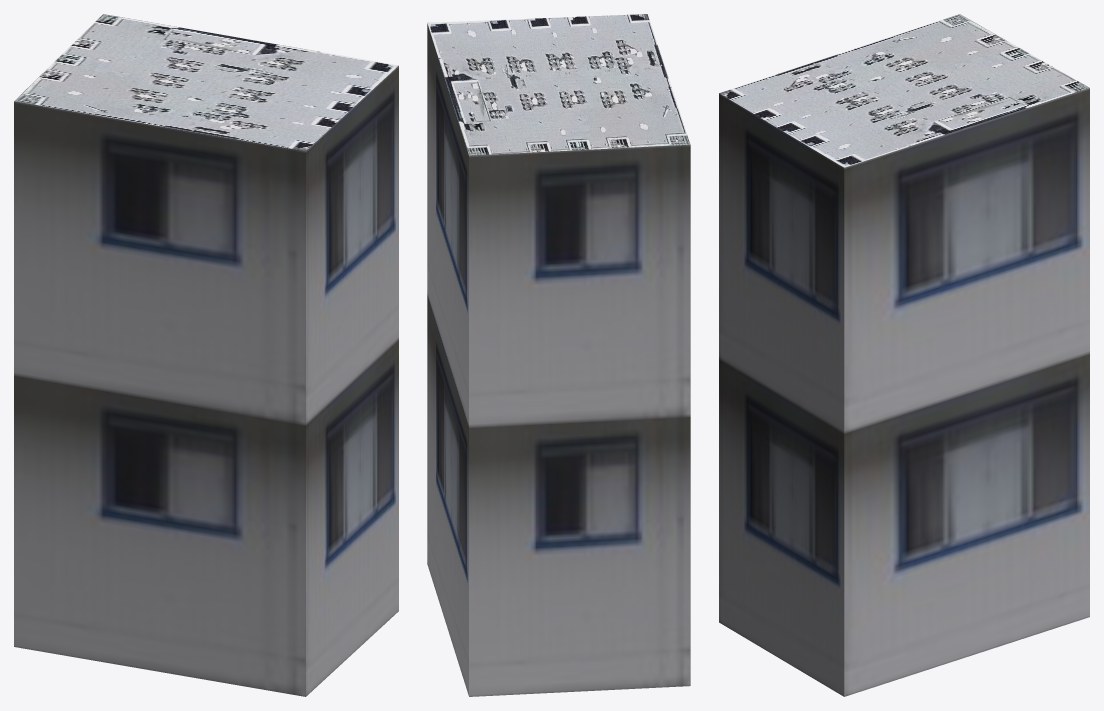
File: ResTex__57.fbx
3 views of the same model, side by side, from view 1: azimuth 30°, elevation 25°; view 2: azimuth 150°, elevation 25°; view 3: azimuth 270°, elevation 25° (orthographic). The views are drawn at different scales.
Parts seen in each view (by area): view 1: CityEngineMaterial_9_m, CityEngineMaterial_m; view 2: CityEngineMaterial_9_m, CityEngineMaterial_m; view 3: CityEngineMaterial_9_m, CityEngineMaterial_m.
Boxes of the visible parts, x1,y1,x2,y2 form: CityEngineMaterial_9_m: (14, 66, 398, 696); CityEngineMaterial_m: (14, 14, 398, 151); CityEngineMaterial_9_m: (427, 23, 690, 696); CityEngineMaterial_m: (427, 14, 690, 155); CityEngineMaterial_9_m: (719, 88, 1089, 696); CityEngineMaterial_m: (719, 14, 1089, 167).
Size of the model in its own units: 3.74 by 6 by 3.81.
Materials: 2 (2 with a texture image).
